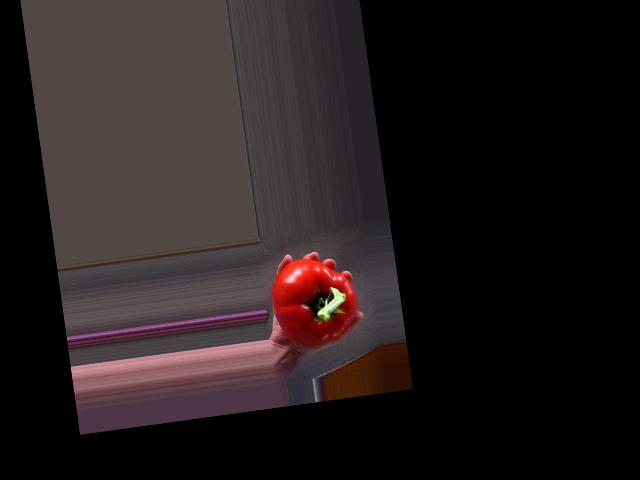tomato: (267, 252, 362, 350)
